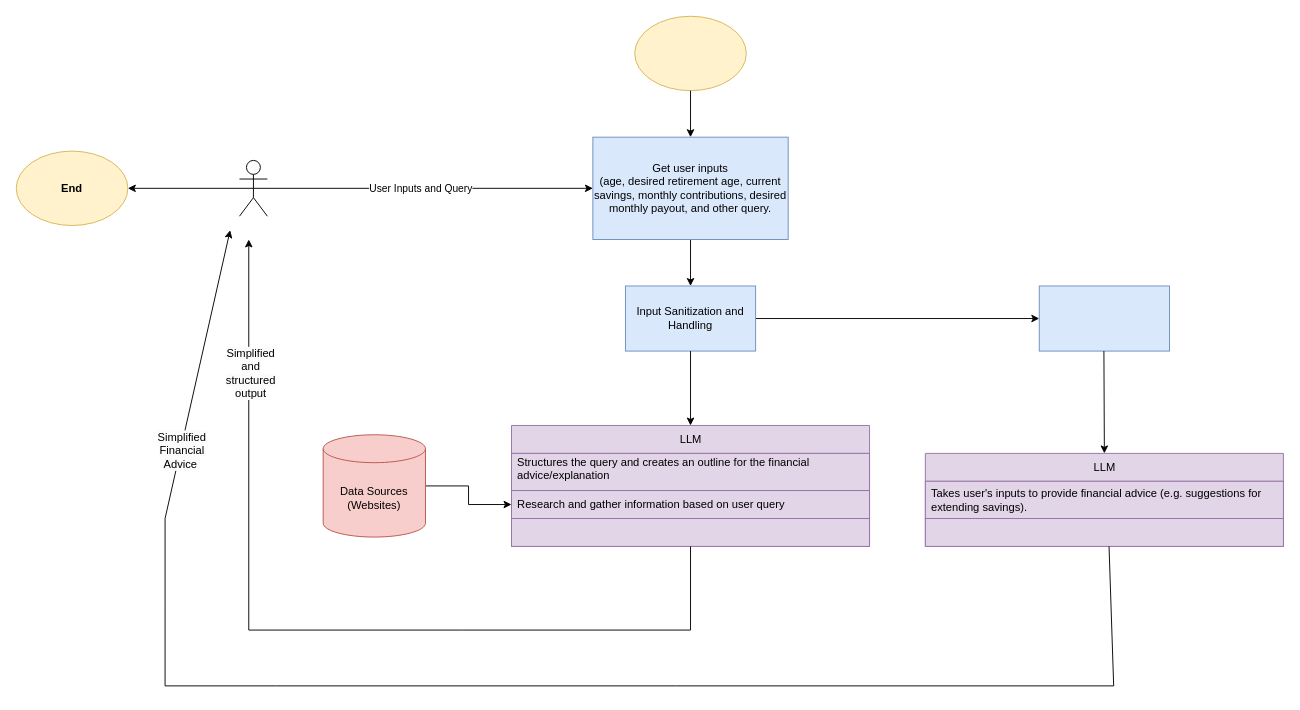
This 1300x710 diagram has some shape labels left out. The box of each missing label's shape, as (x1, y1, x2, y2) in pixels:
Provides scenarios where user adjust their retirement plans: (924, 518, 1283, 546)
Simplified and structured output of user query: (511, 518, 870, 546)
Simulation and Calculation: (1038, 285, 1169, 351)
Start: (634, 15, 746, 91)
User: (239, 159, 267, 216)
